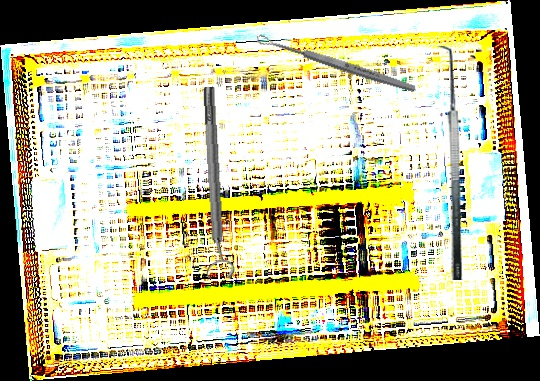Fixation Ring: (194, 85, 236, 280)
Spatula Surgical: (432, 46, 463, 280)
Surgical Spoon: (255, 32, 418, 95)
